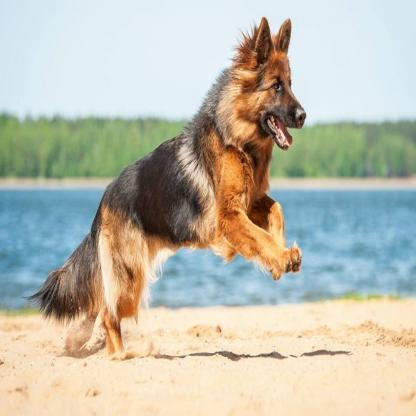german shepherd: (37, 18, 304, 364)
